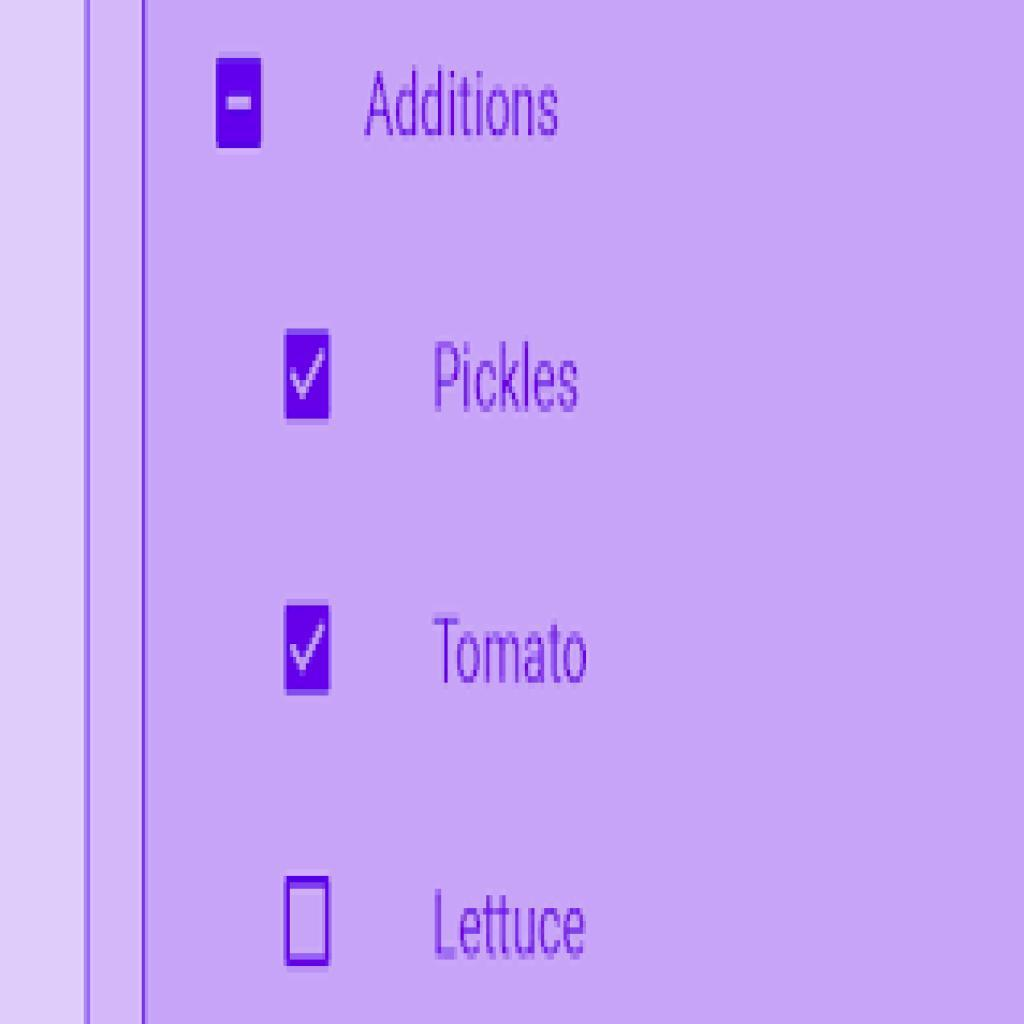checkbox: (285, 329, 329, 419), (287, 604, 331, 694), (289, 875, 333, 964)
label: (357, 65, 566, 143), (431, 880, 597, 976), (431, 601, 590, 700), (435, 334, 590, 422)
